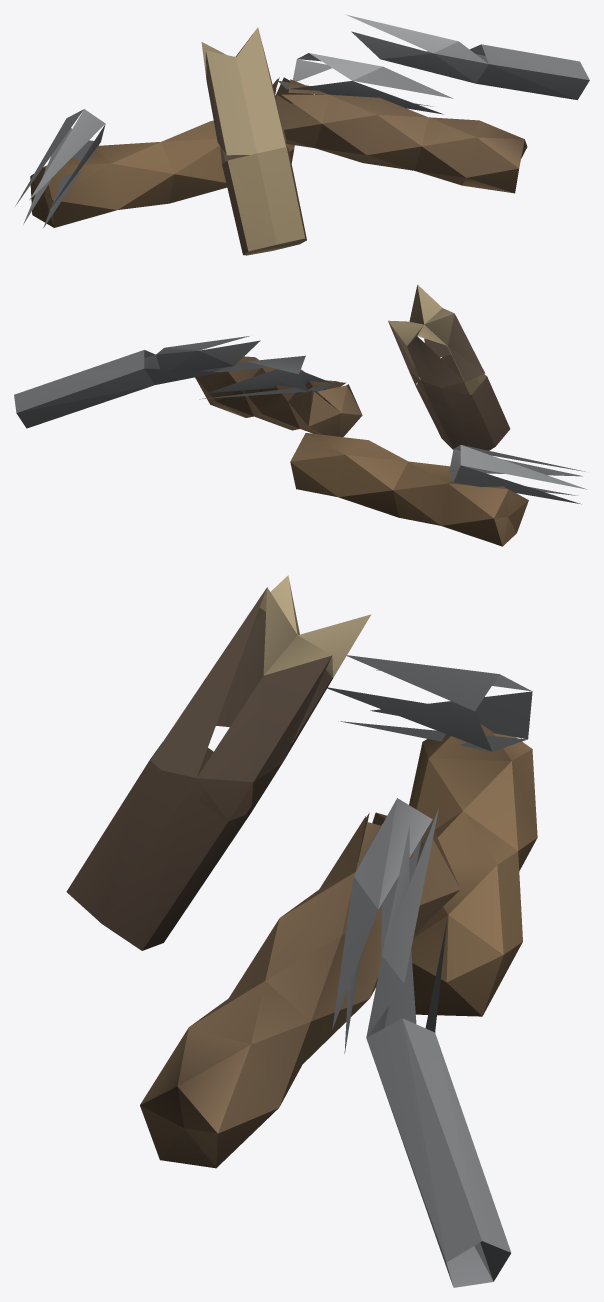
File: driftwood.lod.glb
3 views of the same model, one above another, from view 1: azimuth 30°, elevation 25°; view 2: azimuth 150°, elevation 25°; view 3: azimuth 270°, elevation 25° (orthographic). The views are drawn at different scales.
Parts seen in each view (by area): view 1: driftwood; view 2: driftwood; view 3: driftwood.
Part boxes in pixels (x1=…): driftwood: x1=15, y1=14, x2=589, y2=255; driftwood: x1=14, y1=284, x2=587, y2=546; driftwood: x1=66, y1=575, x2=537, y2=1287.
Bounding box in the file's own units: 3.21 × 1.03 × 1.2.
